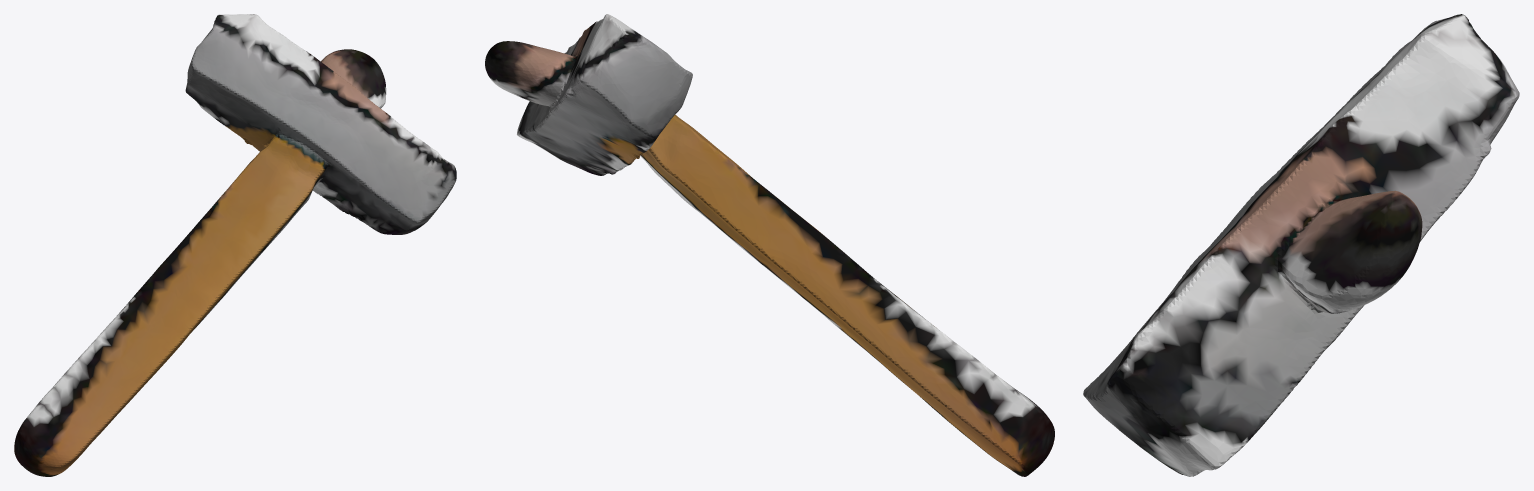
The model's file is hammer_1.glb.
3 views of the same model, side by side, from view 1: azimuth 30°, elevation 25°; view 2: azimuth 150°, elevation 25°; view 3: azimuth 270°, elevation 25° (orthographic). The views are drawn at different scales.
Visible parts, largest first — view 1: geometry_0; view 2: geometry_0; view 3: geometry_0.
Boxes of the visible parts, bbox=[...] form: geometry_0: bbox=[14, 14, 456, 476]; geometry_0: bbox=[485, 14, 1054, 476]; geometry_0: bbox=[1083, 14, 1519, 476].
Size of the model in its own units: 0.9688 by 0.7622 by 0.462.
